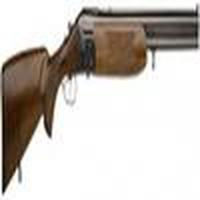gun: (2, 7, 195, 182)
